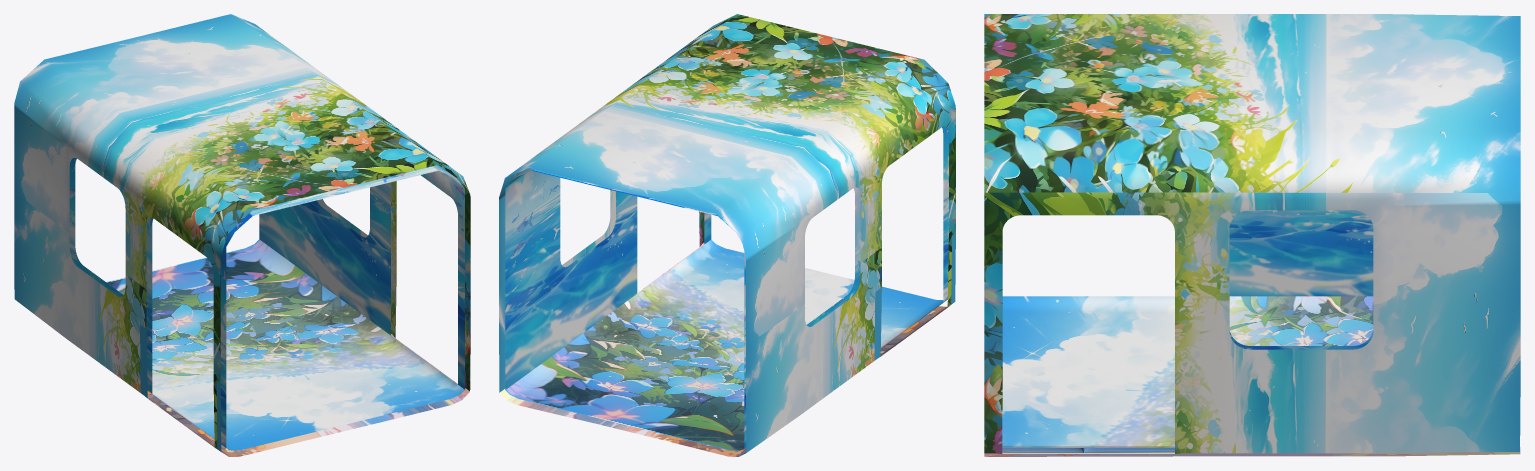
The model's file is g_subway_mainframe_mod.fbx.
The picture shows the model from 3 angles, left to right: view 1: azimuth 30°, elevation 25°; view 2: azimuth 150°, elevation 25°; view 3: azimuth 270°, elevation 25°; orthographic projection. The views are drawn at different scales.
Parts seen in each view (by area): view 1: g_subway_mainframe_mod; view 2: g_subway_mainframe_mod; view 3: g_subway_mainframe_mod.
Boxes of the visible parts, <box> form: g_subway_mainframe_mod: <box>14,14,470,456</box>; g_subway_mainframe_mod: <box>499,14,955,456</box>; g_subway_mainframe_mod: <box>984,14,1520,456</box>.
Size of the model in its own units: 242 by 349 by 226.
